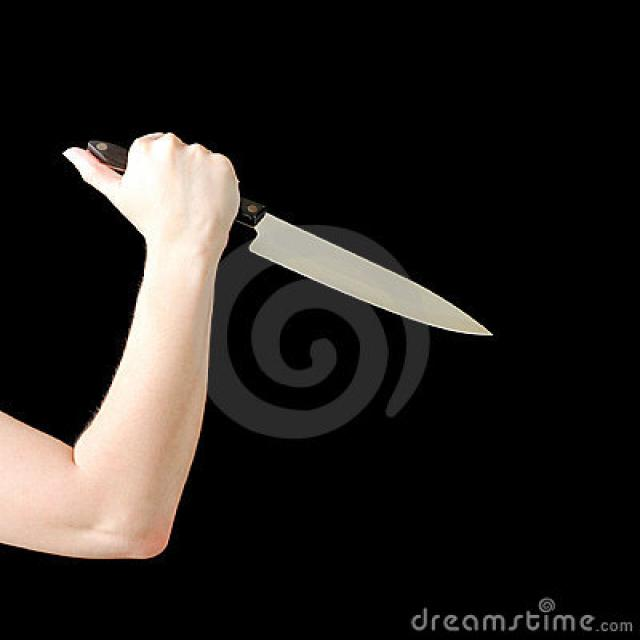knife: (86, 136, 498, 342)
